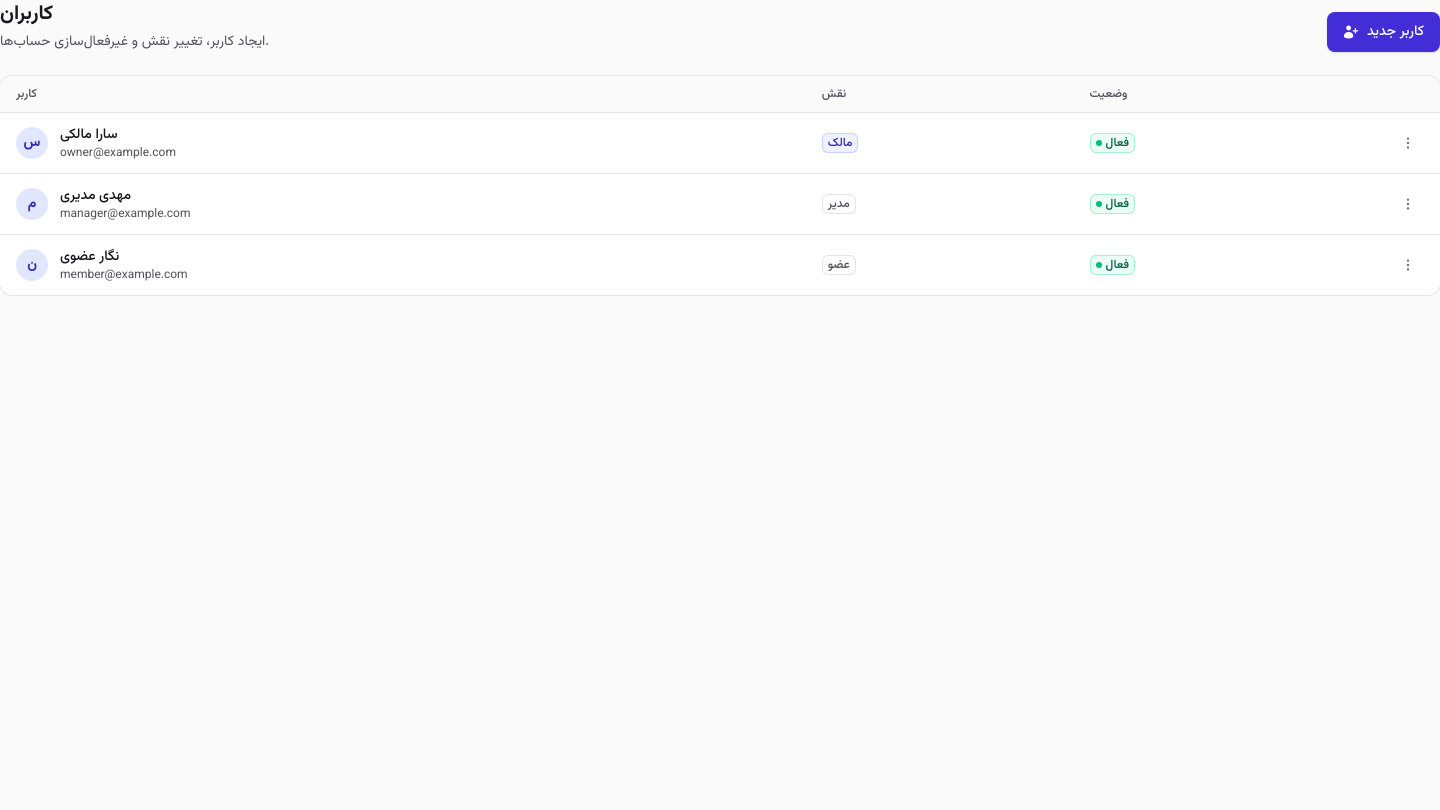
Test: UserManagement › explains a rejected last-owner downgrade
Click the button named "گزینه‌های کاربر «سارا مالکی»".
click(1408, 143)  # box [1392,127,1424,159]
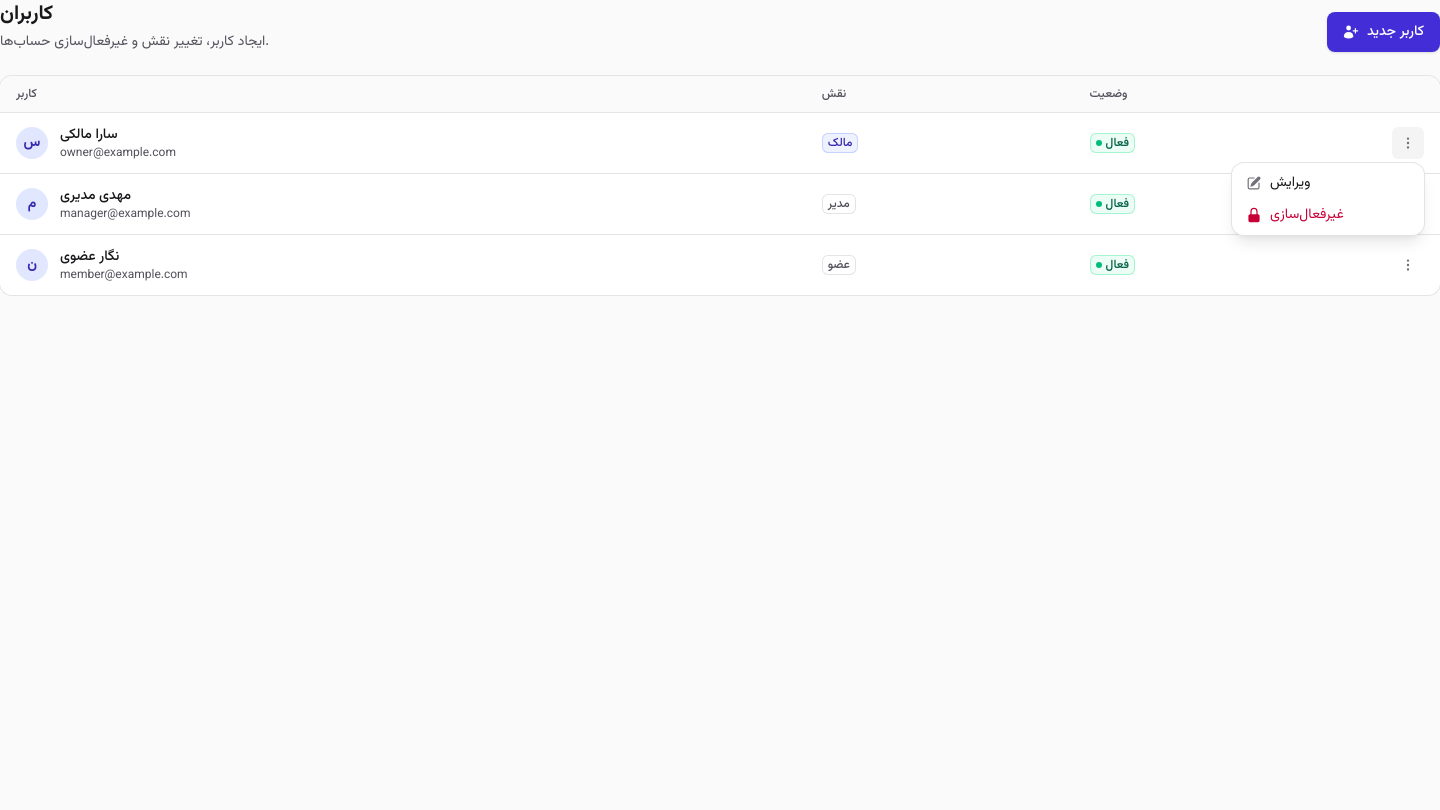
Click the menu item "ویرایش".
click(1328, 183)  # box [1236,167,1420,199]
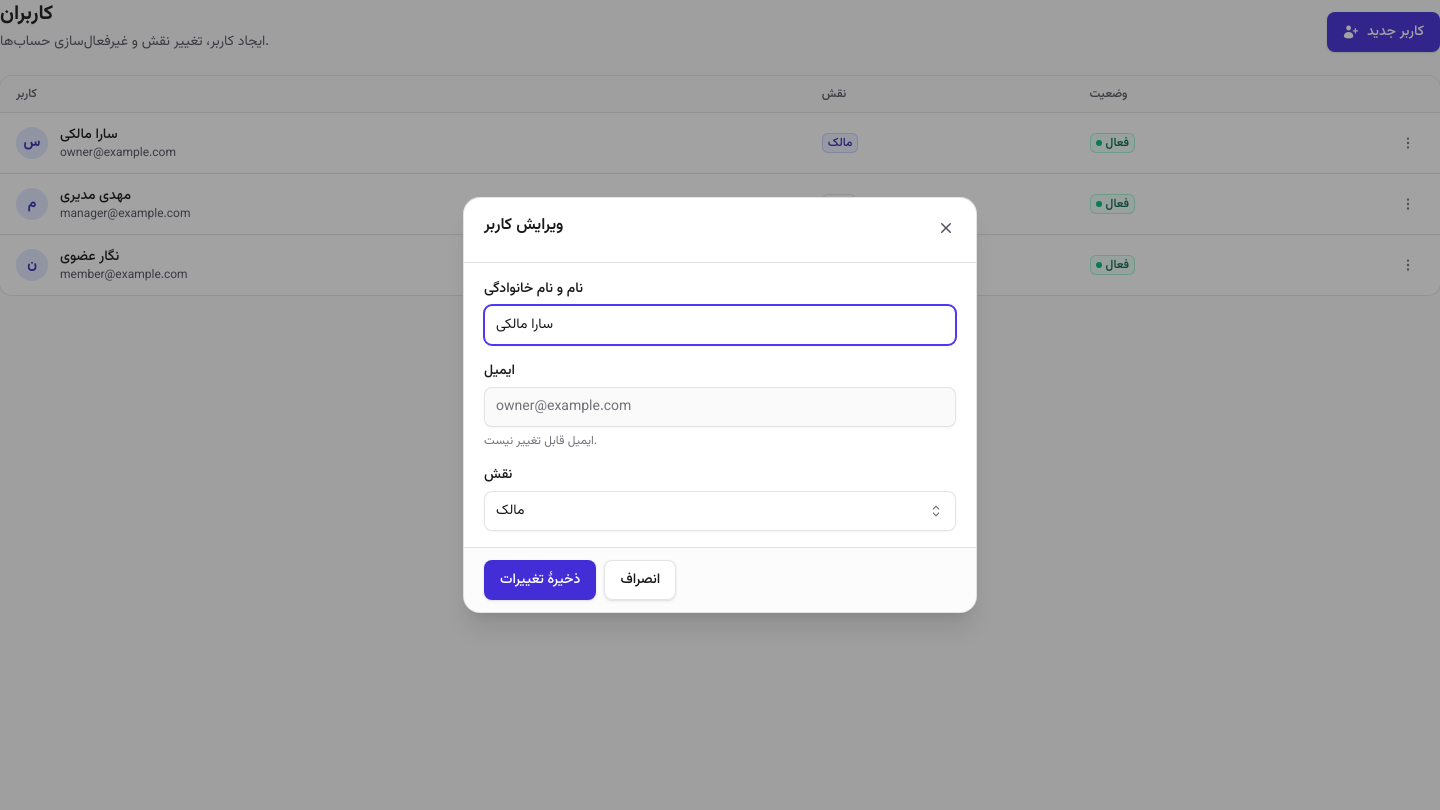
Click the button named "نقش".
click(510, 511)  # box [484,491,956,531]
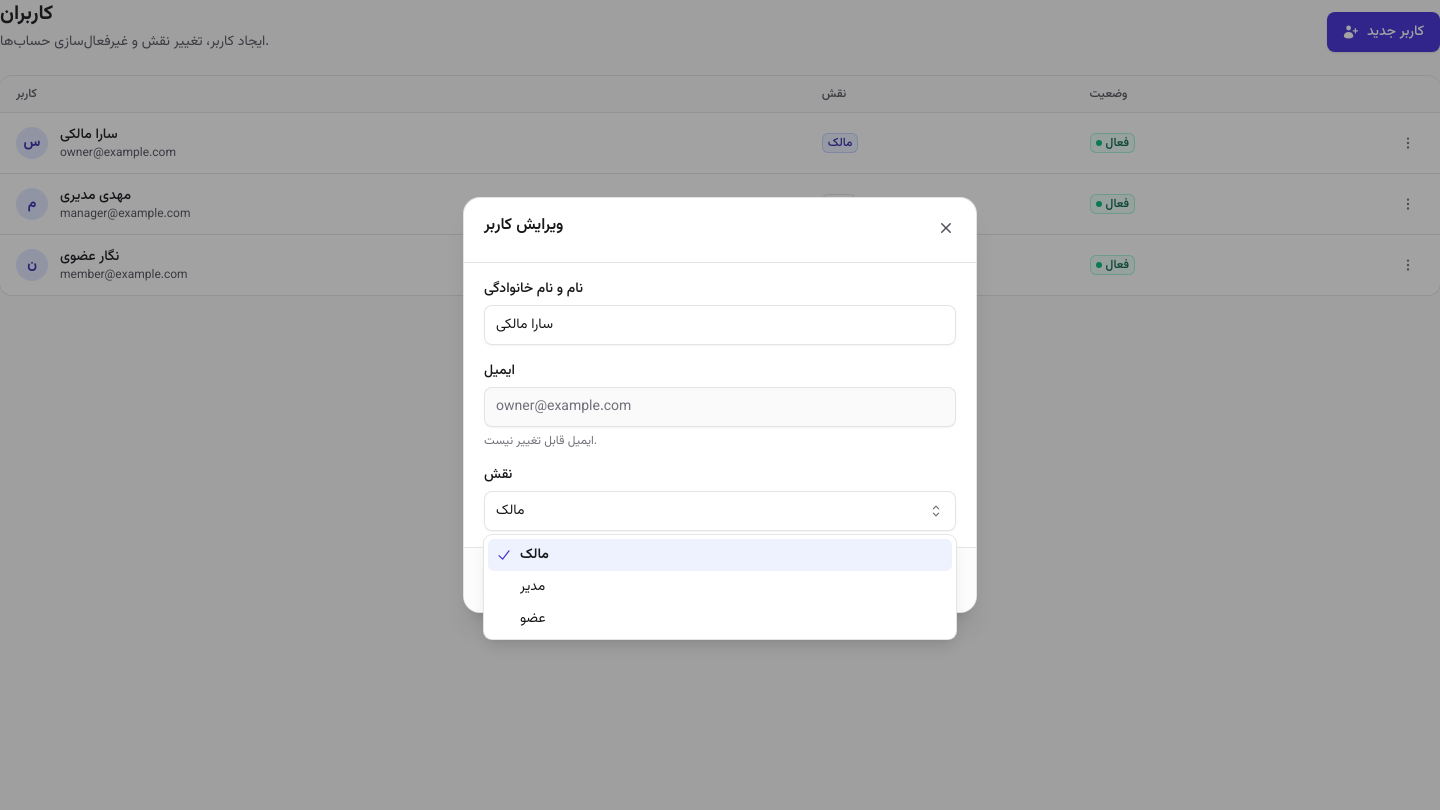
Click the option "عضو".
click(533, 619)  # box [520,608,546,630]
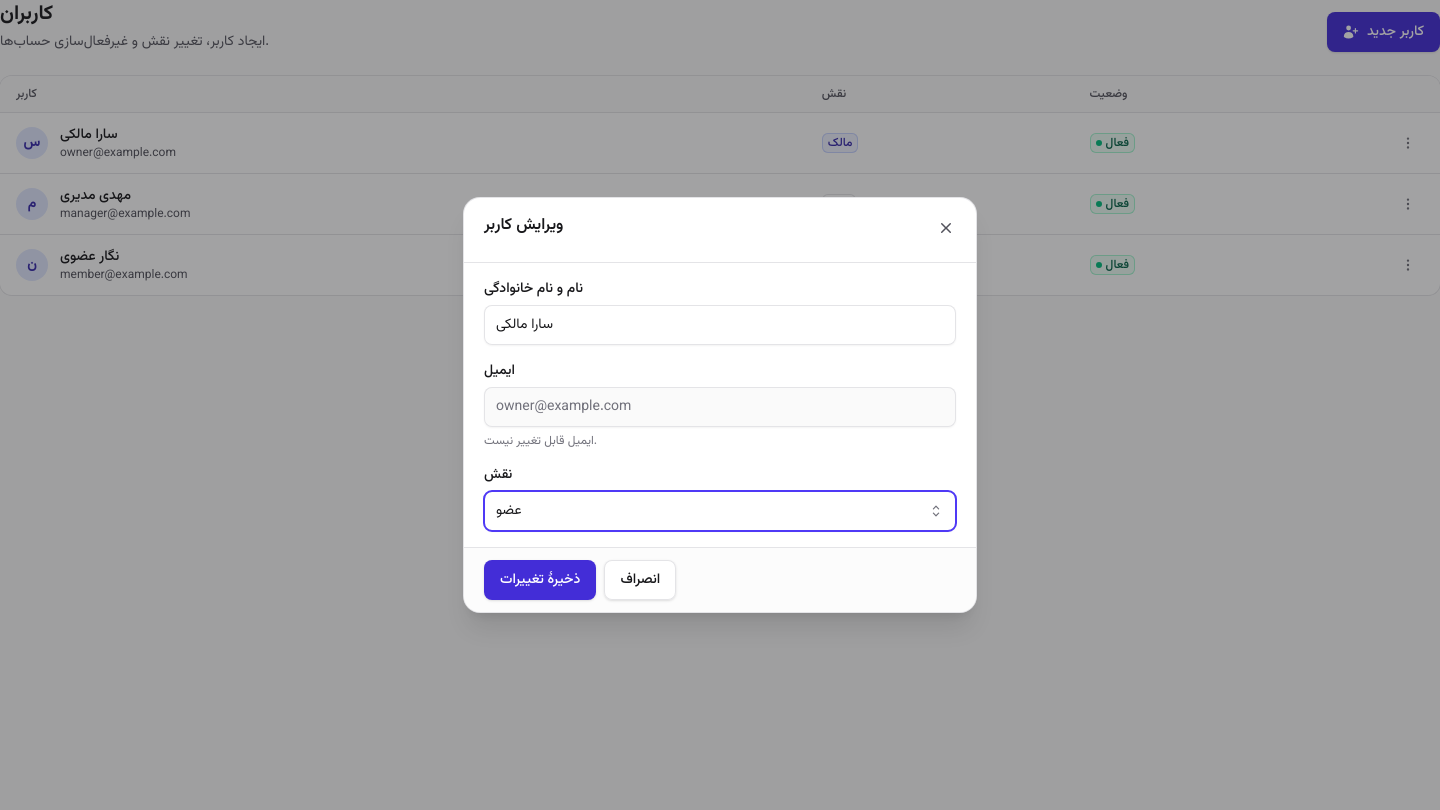
Click the button "ذخیرهٔ تغییرات".
click(540, 580)  # box [484,560,596,600]
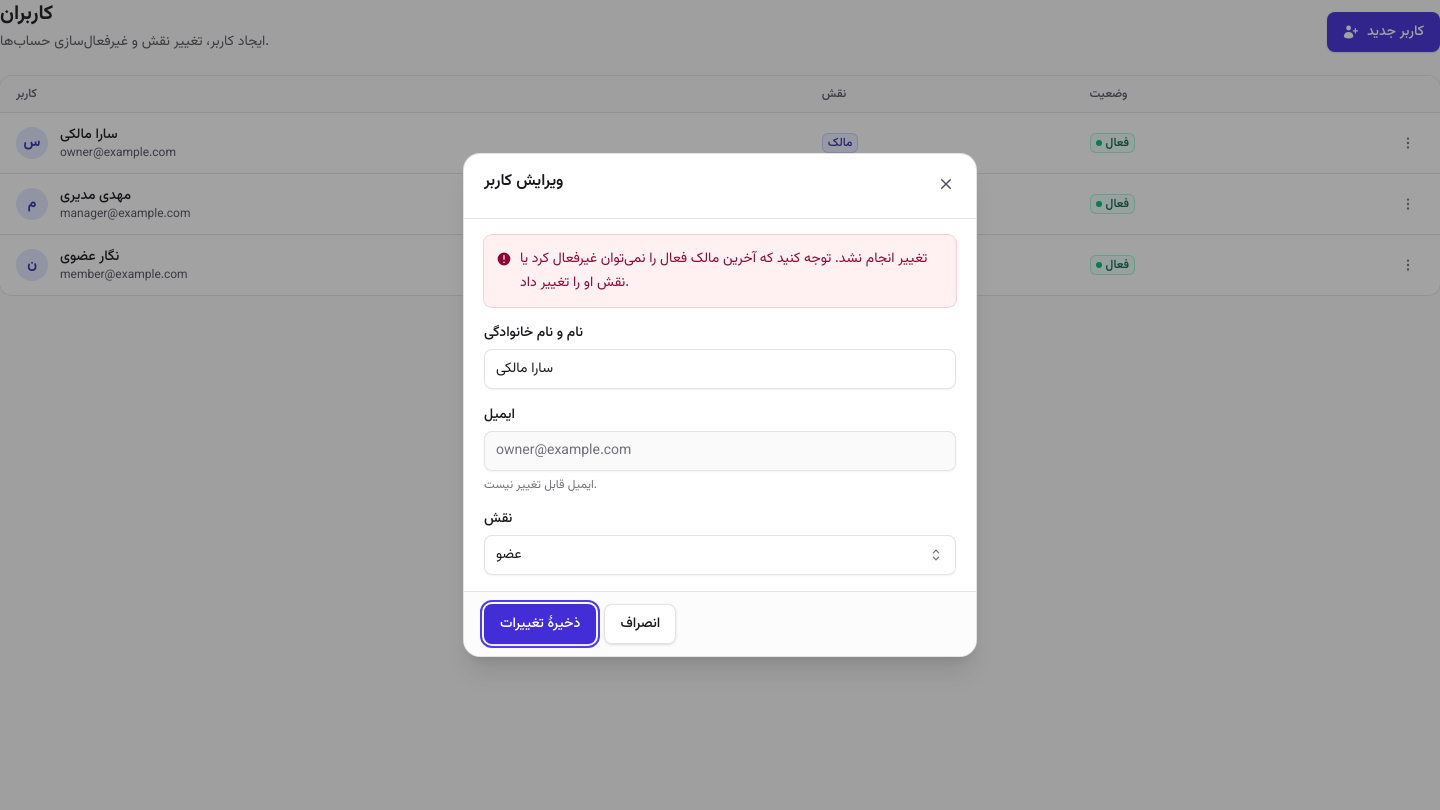
Now the message shows "آخرین مالک", box [520,248,927,294]
